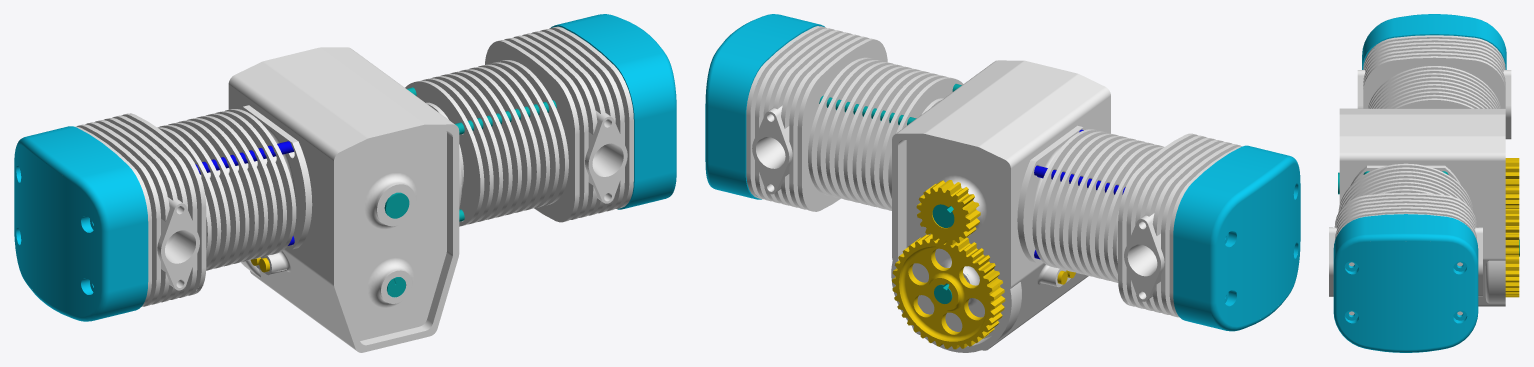
File: motore.gltf
3 renders of one model, left to right at view 1: azimuth 30°, elevation 25°; view 2: azimuth 150°, elevation 25°; view 3: azimuth 270°, elevation 25°, orthographic. The views are drawn at different scales.
Parts seen in each view (by area): view 1: body_1, body_12, body_2, body_3, body_4, body_8, body_5, body, body_6, body_22; view 2: body_1, body_12, body_3, body_4, body_2, body_8, body_5, body_21, body_23; view 3: body_5, body_1, body_8, body_3, body_4, body_2, body_12, body_21, body_23.
Boxes of the visible parts, <box> form: body_1: <box>228,47,459,352</box>; body_12: <box>14,126,148,321</box>; body_2: <box>405,60,568,226</box>; body_3: <box>157,105,312,270</box>; body_4: <box>485,26,633,222</box>; body_8: <box>75,113,206,306</box>; body_5: <box>551,14,676,209</box>; body: <box>195,141,293,174</box>; body_6: <box>407,87,556,221</box>; body_22: <box>384,192,409,218</box>; body_1: <box>891,60,1110,352</box>; body_12: <box>1173,145,1300,331</box>; body_3: <box>1017,125,1164,282</box>; body_4: <box>746,26,887,211</box>; body_2: <box>808,57,963,210</box>; body_8: <box>1118,133,1242,317</box>; body_5: <box>705,14,824,199</box>; body_21: <box>892,234,1005,349</box>; body_23: <box>916,180,980,245</box>; body_5: <box>1333,214,1478,352</box>; body_1: <box>1339,108,1505,306</box>; body_8: <box>1357,35,1511,139</box>; body_3: <box>1368,66,1500,108</box>; body_4: <box>1329,192,1482,315</box>; body_2: <box>1338,163,1473,212</box>; body_12: <box>1362,14,1506,69</box>; body_21: <box>1505,209,1519,297</box>; body_23: <box>1505,158,1519,208</box>.
Size of the model in its own units: 55.22 by 20.28 by 19.91.
